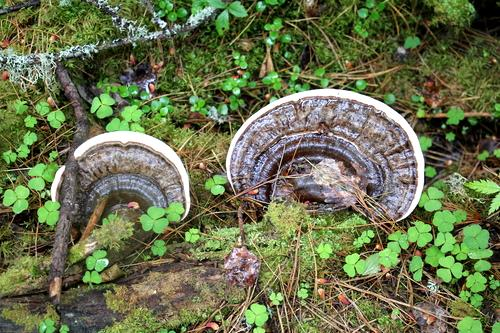Ganoderma - Fruit Body: (223, 86, 429, 231), (49, 131, 190, 250)
